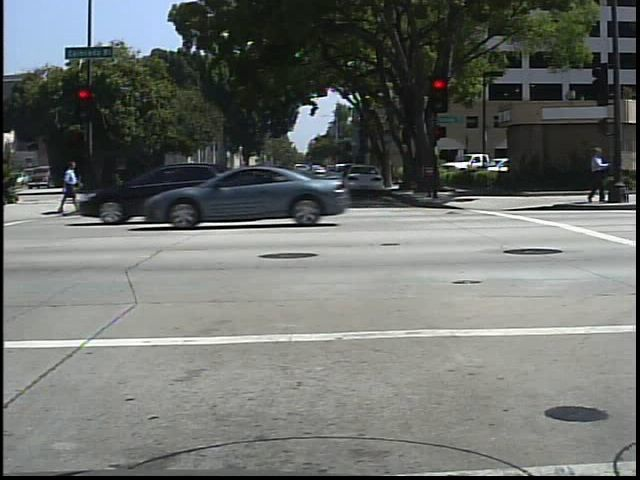person: (585, 144, 612, 208), (56, 157, 82, 216)
